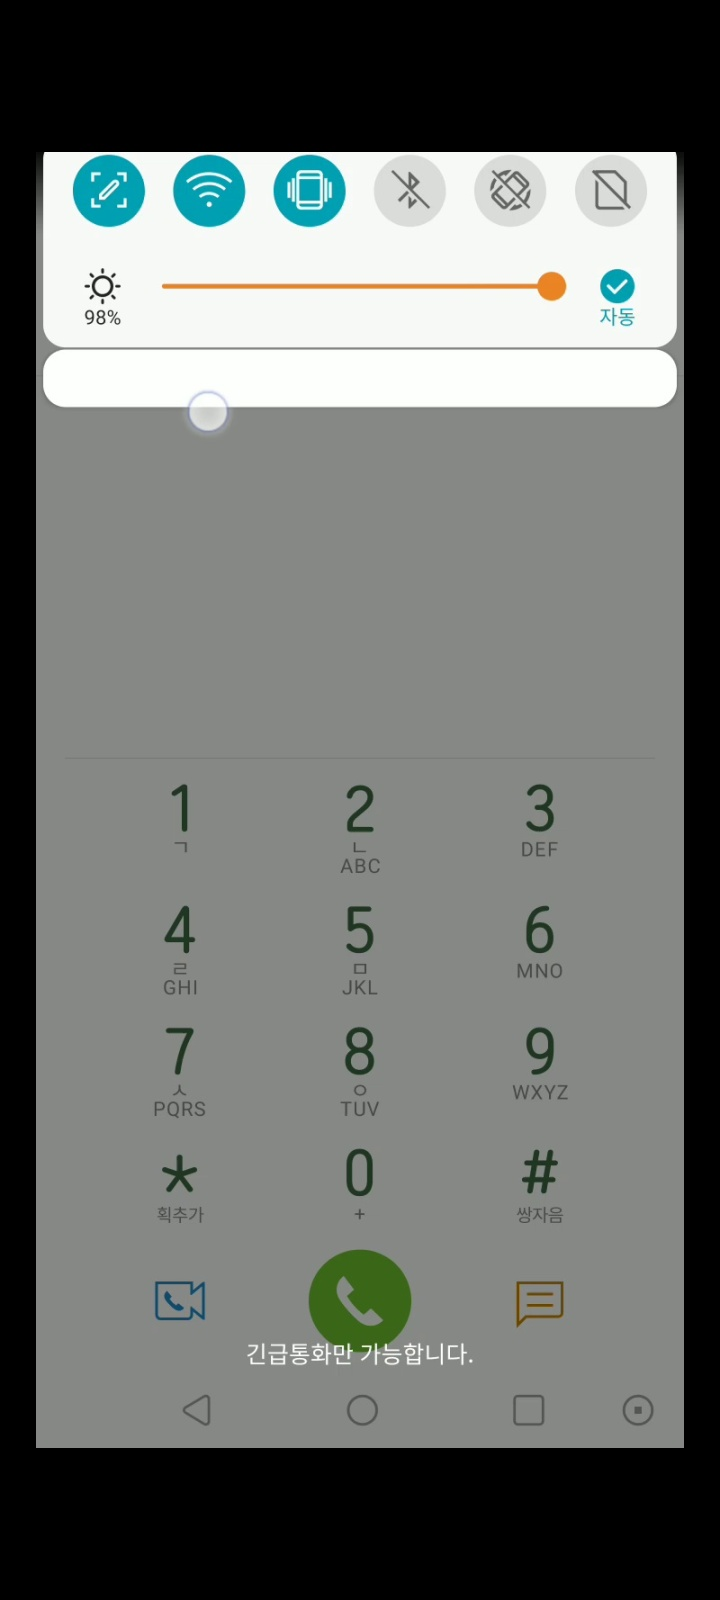Cursor: (186, 388, 232, 433)
